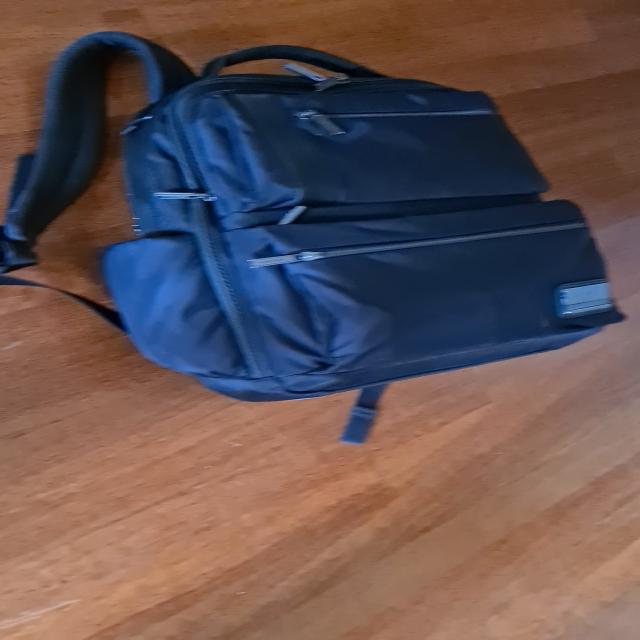backpack: (87, 34, 640, 410)
